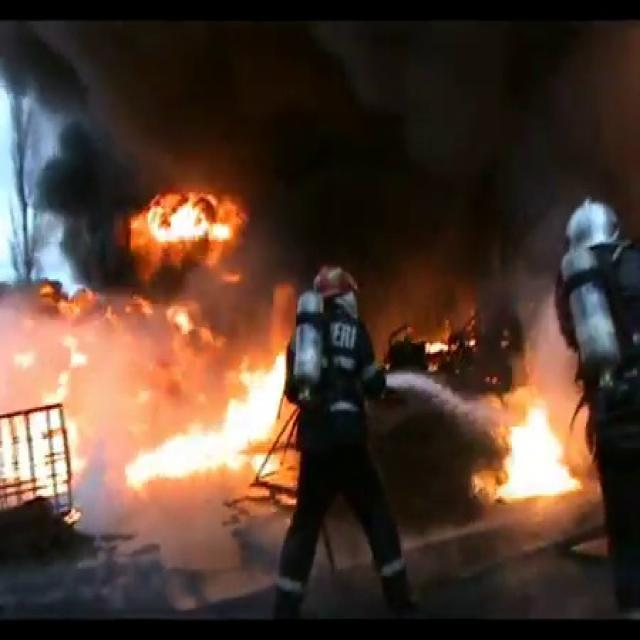Fire: (5, 298, 293, 492), (491, 381, 582, 506), (132, 185, 242, 252)
Smoke: (15, 21, 608, 290)
